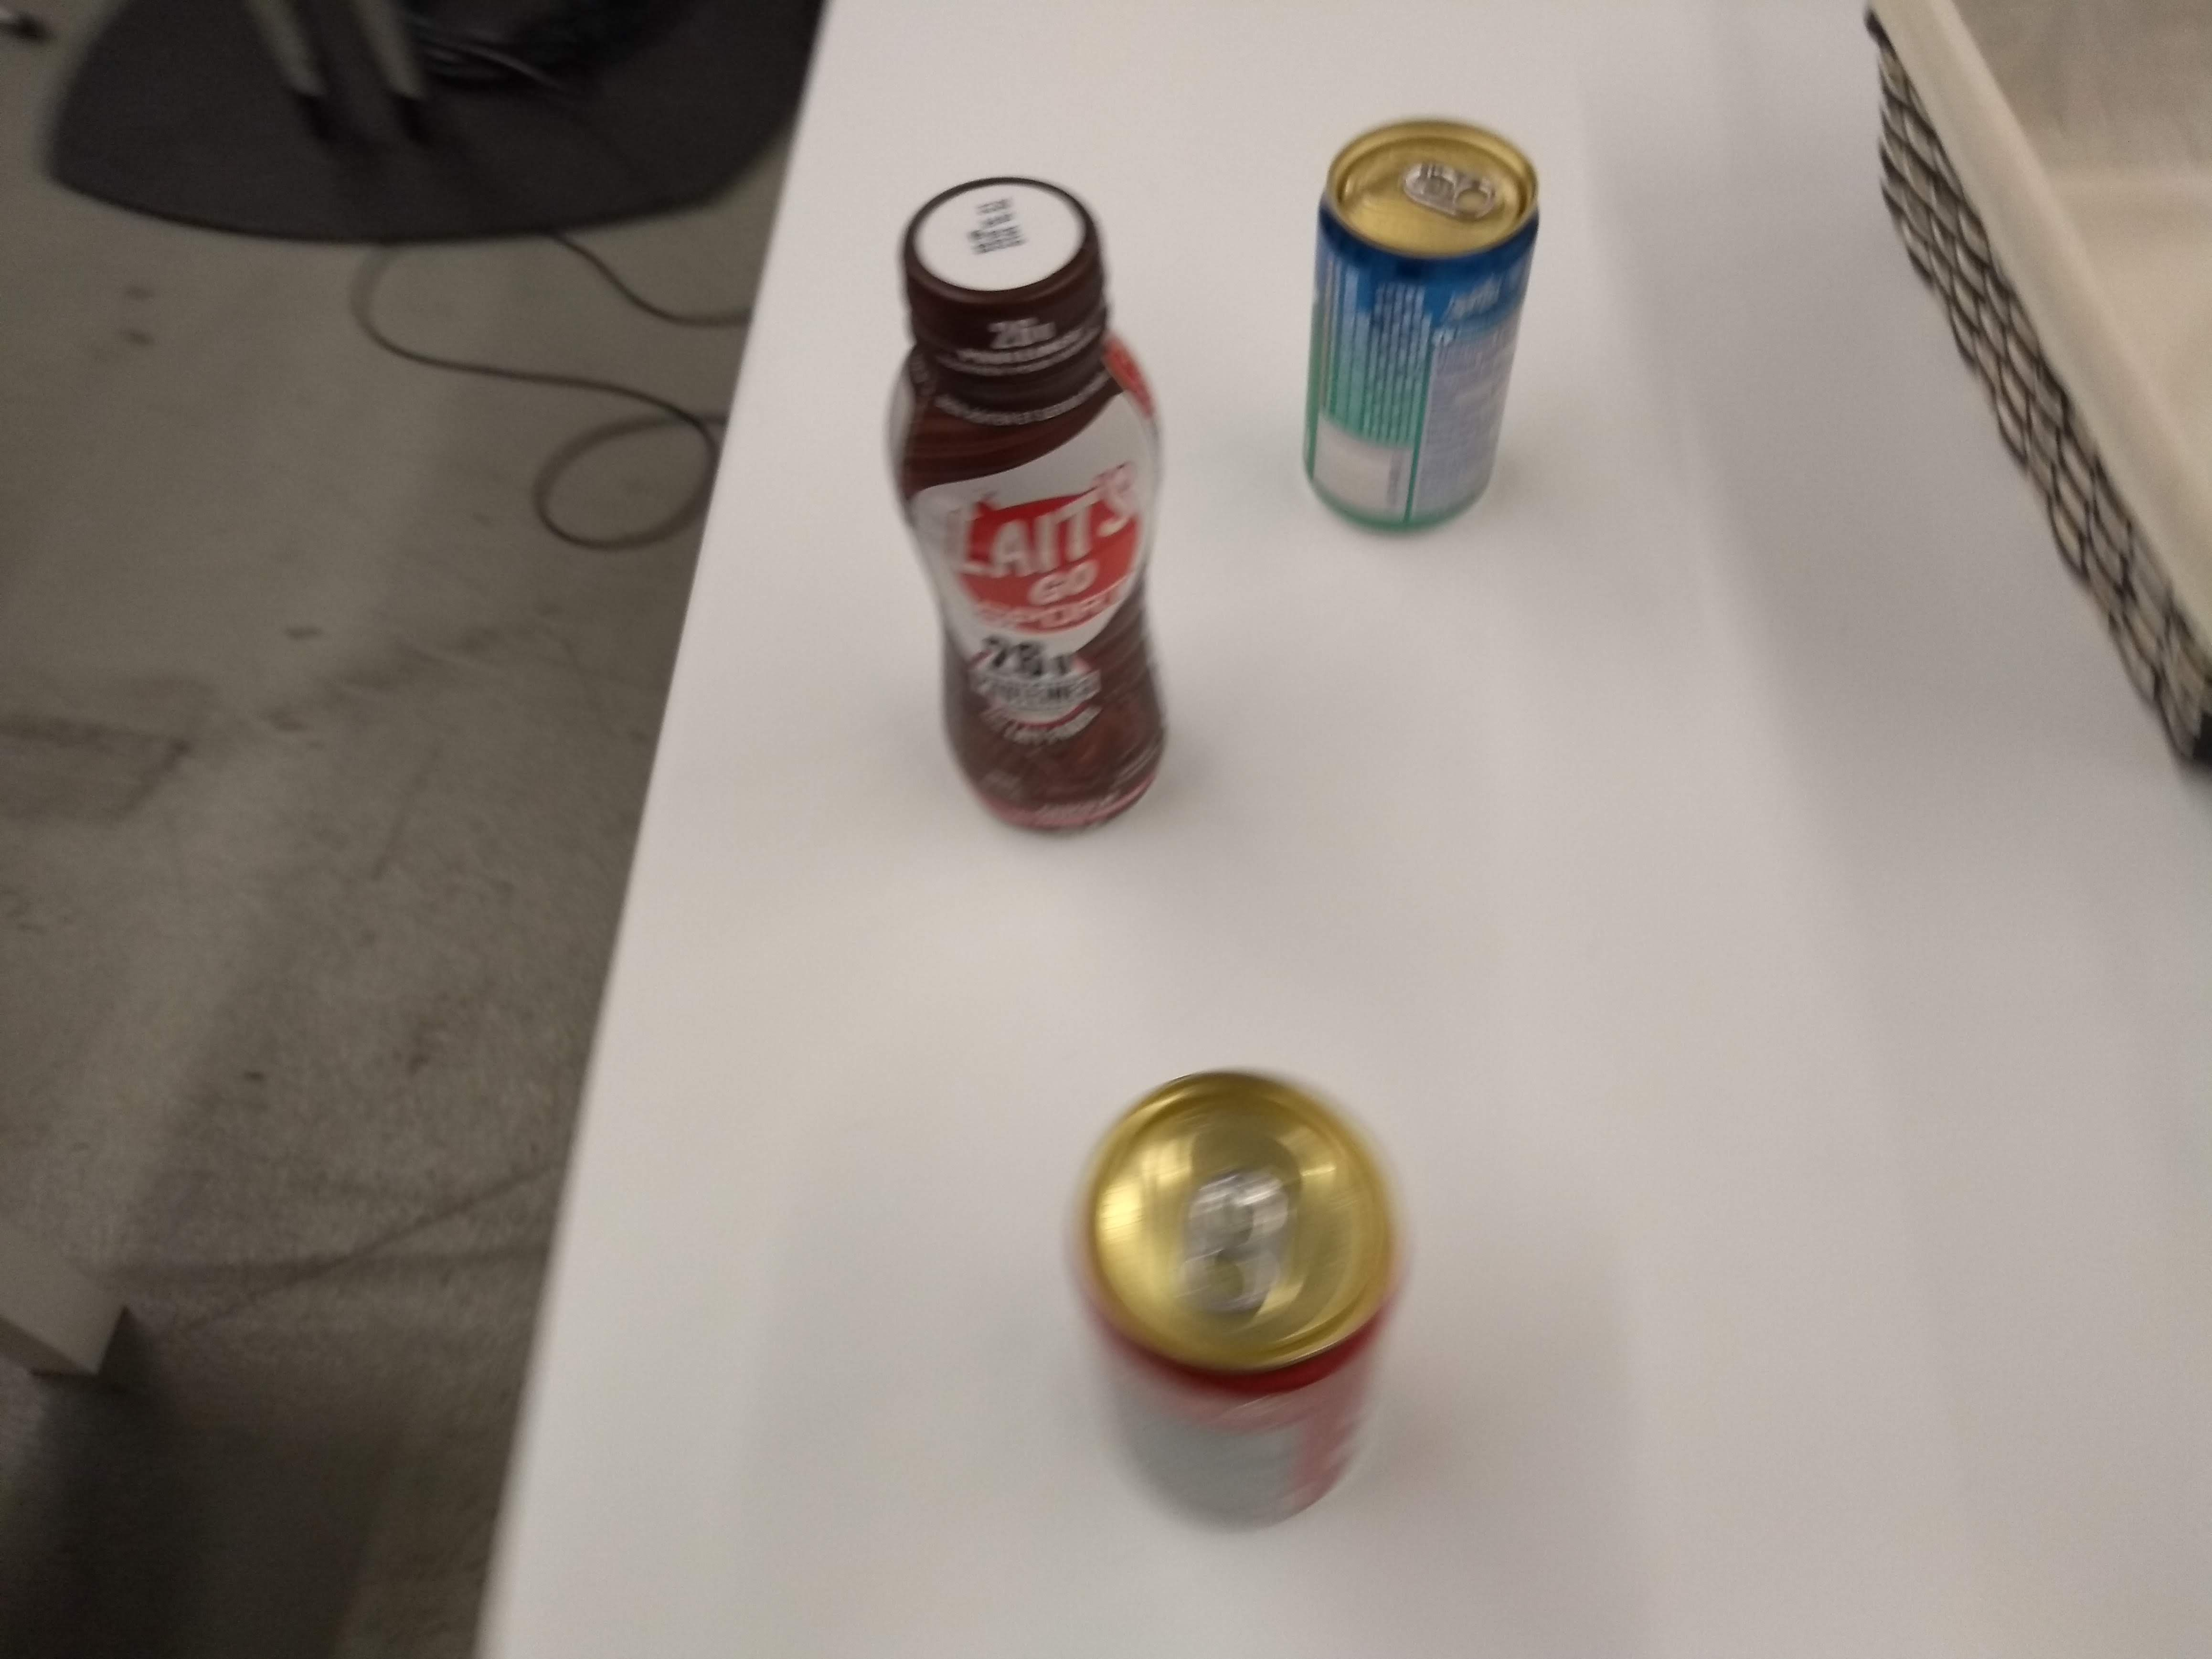chocolate_drink: (862, 162, 1200, 850)
sprite: (1289, 112, 1550, 547)
